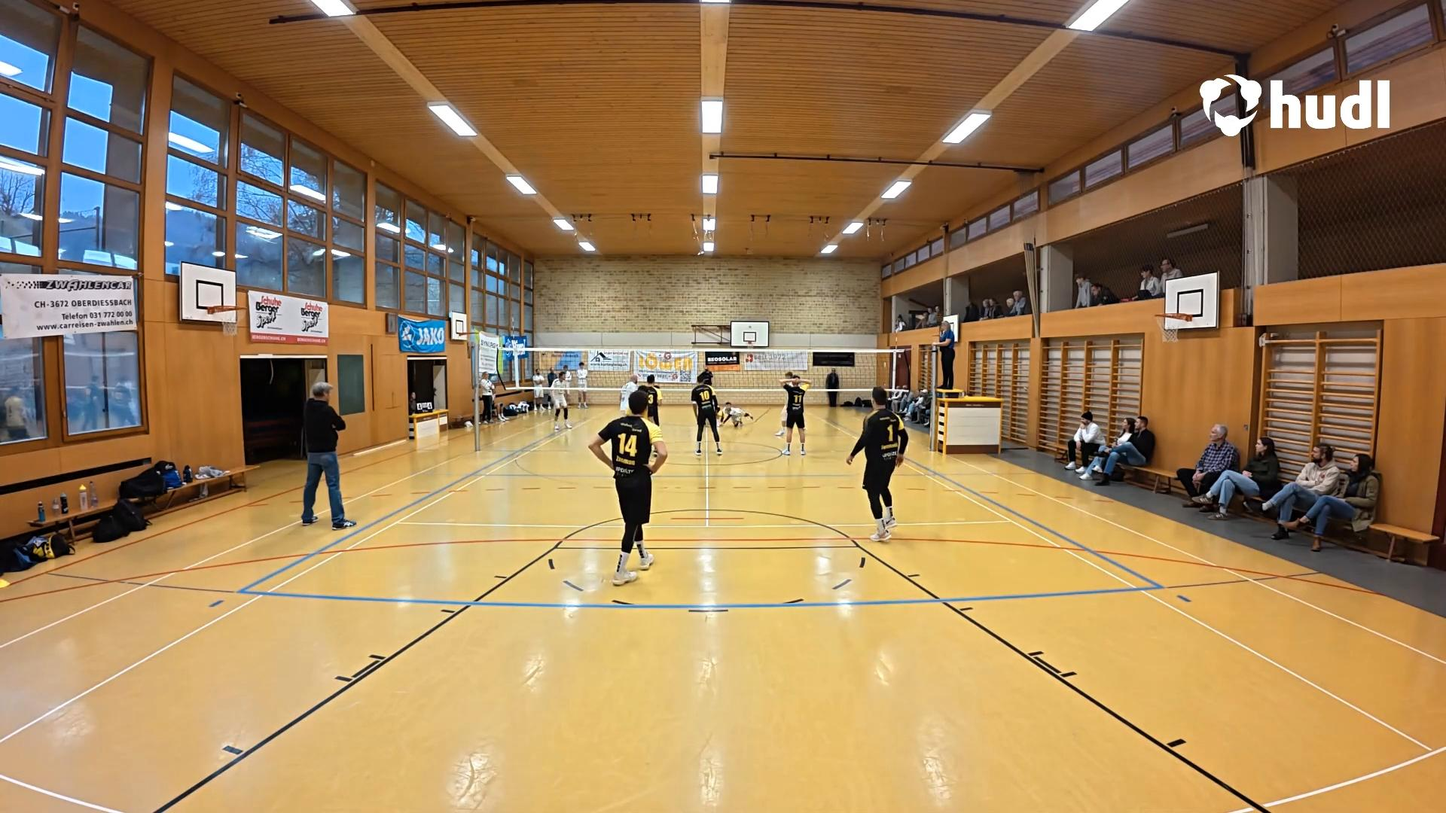Player: (588, 388, 666, 580), (846, 380, 911, 540), (689, 366, 725, 455), (778, 374, 808, 456), (641, 372, 667, 430), (553, 373, 575, 434), (721, 392, 747, 433), (618, 369, 637, 415)
